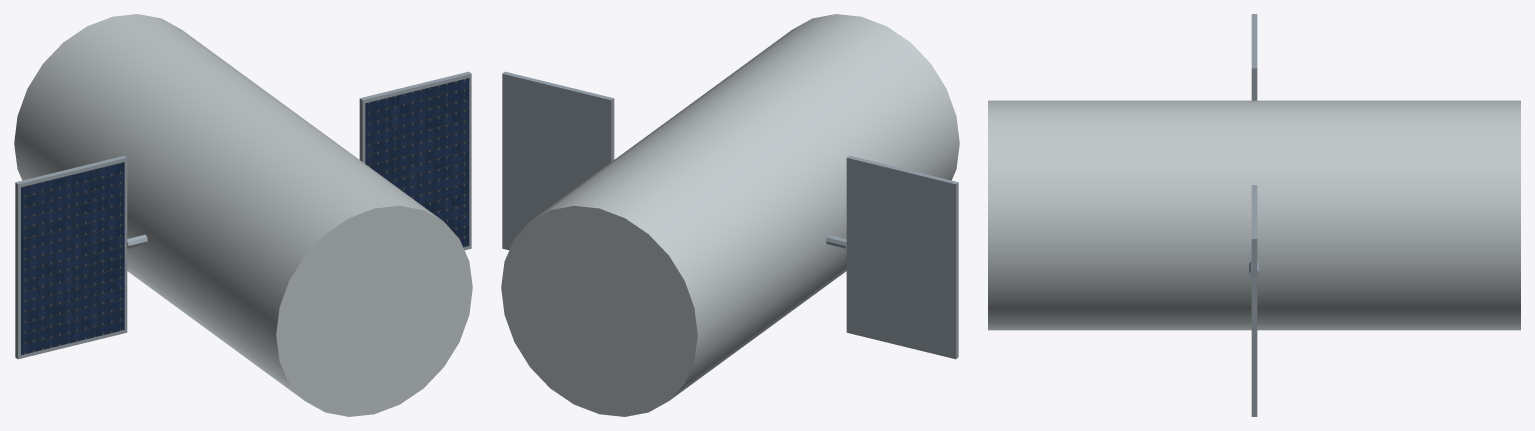
The model's file is ref-14f150-44797.glb.
3 views of the same model, side by side, from view 1: azimuth 30°, elevation 25°; view 2: azimuth 150°, elevation 25°; view 3: azimuth 270°, elevation 25° (orthographic).
Visible parts, largest first — view 1: Spacecraft body, Photovoltaic laminates (×2), Array frame (×2); view 2: Spacecraft body, Array frame (×2); view 3: Spacecraft body, Array frame (×2).
Boxes of the visible parts, x1=… form: Spacecraft body: x1=14, y1=14, x2=472, y2=416; Photovoltaic laminates (×2): x1=21, y1=78, x2=469, y2=354; Array frame (×2): x1=15, y1=71, x2=471, y2=359; Spacecraft body: x1=501, y1=14, x2=959, y2=416; Array frame (×2): x1=502, y1=71, x2=958, y2=359; Spacecraft body: x1=988, y1=100, x2=1520, y2=330; Array frame (×2): x1=1251, y1=14, x2=1257, y2=416.
Size of the model in its own units: 3 by 1.3 by 3.
Materials: 3 (1 with a texture image).
